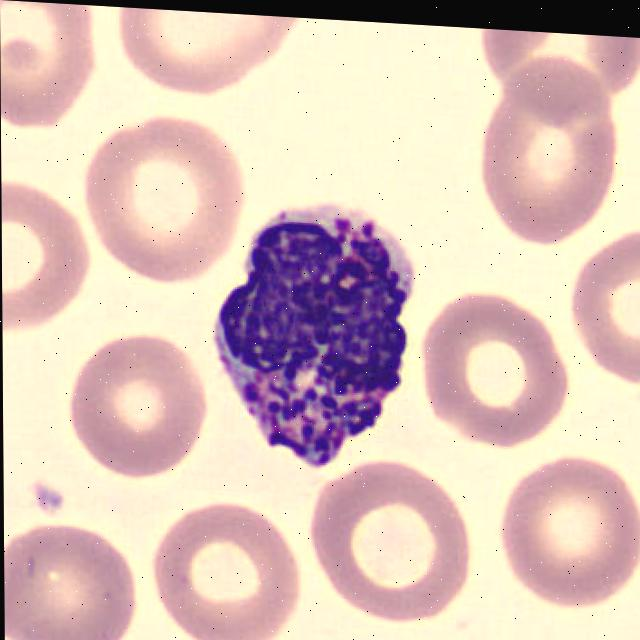basophil: (213, 188, 418, 471)
rbc: (470, 53, 618, 256), (306, 454, 469, 623), (90, 116, 245, 291), (413, 284, 570, 454), (497, 448, 640, 628), (54, 320, 205, 485), (150, 494, 307, 640), (109, 6, 314, 105), (4, 507, 139, 640), (481, 29, 640, 131), (2, 176, 91, 345), (0, 0, 95, 142), (569, 225, 640, 394)
